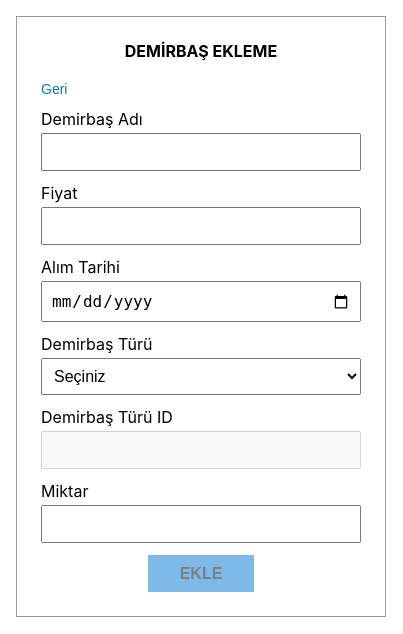
Scenario: StockAdd › AC-2: selecting an asset type option updates the disabled echo input's value to that type's id
Select "Yazıcı" in the dropdown labelled "Demirbaş Türü". click: (201, 376)
box: x1=41 y1=358 x2=361 y2=395
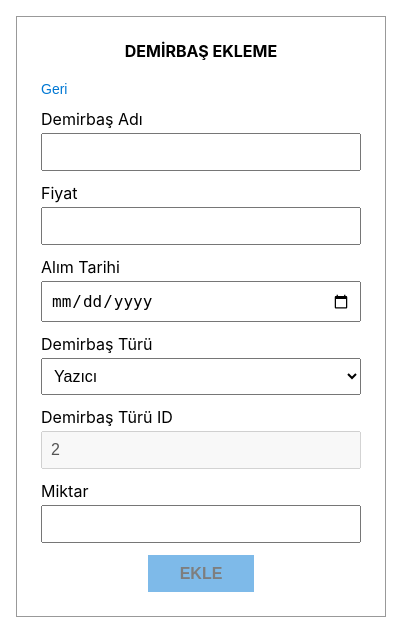
Result: the field labelled "Demirbaş Türü ID" holds "2" at x1=41 y1=431 x2=361 y2=469
